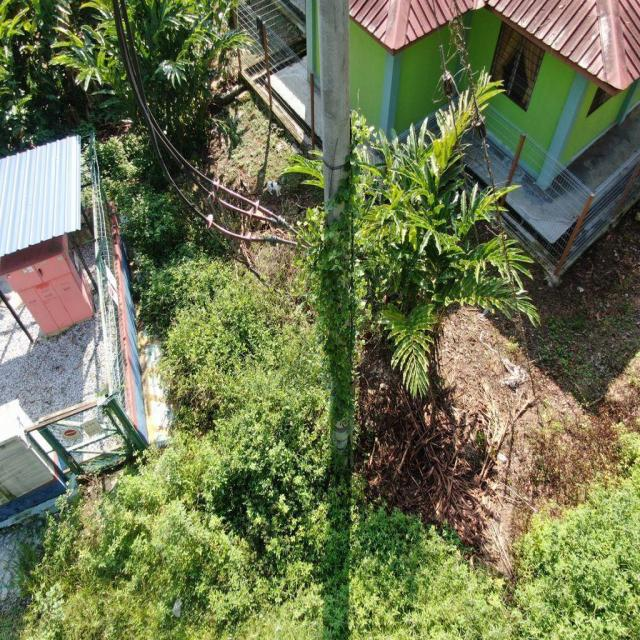light_pole: (294, 152, 372, 466)
